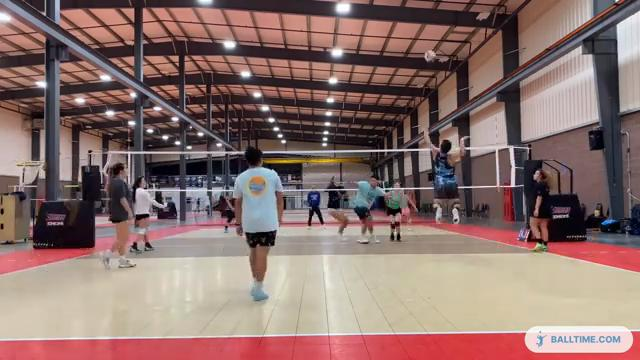attacco: (420, 124, 470, 227)
